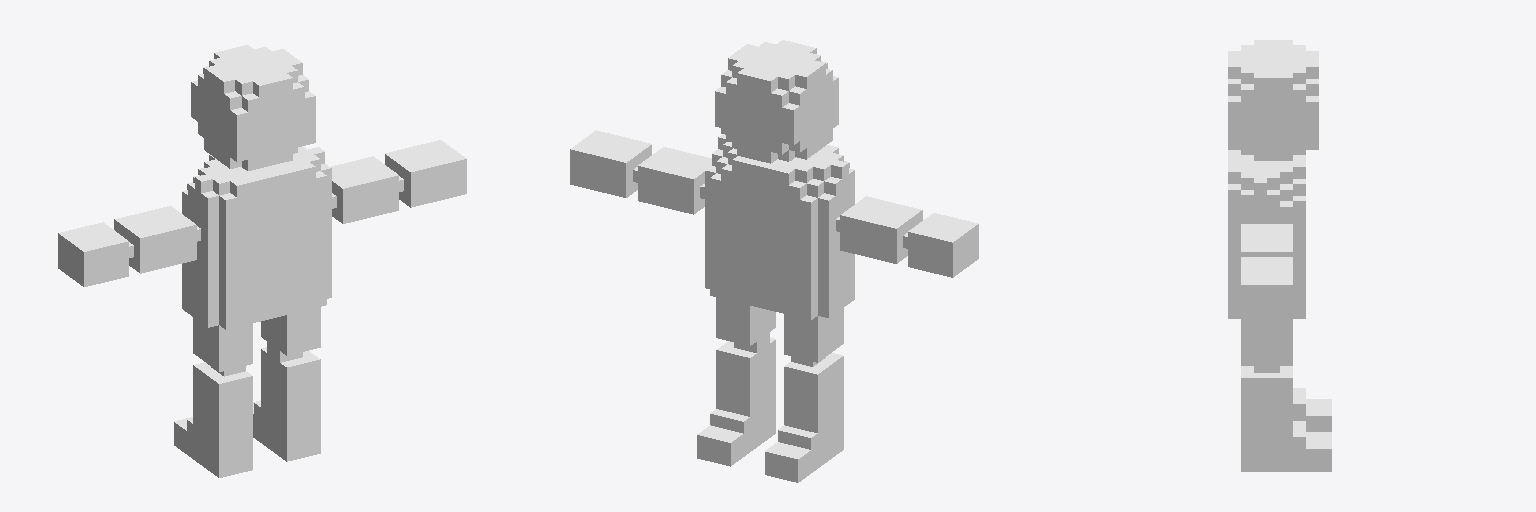
File: RobotGuy.obj
3 views of the same model, side by side, from view 1: azimuth 30°, elevation 25°; view 2: azimuth 150°, elevation 25°; view 3: azimuth 270°, elevation 25° (orthographic).
Size of the model in its own units: 34 by 33 by 8.